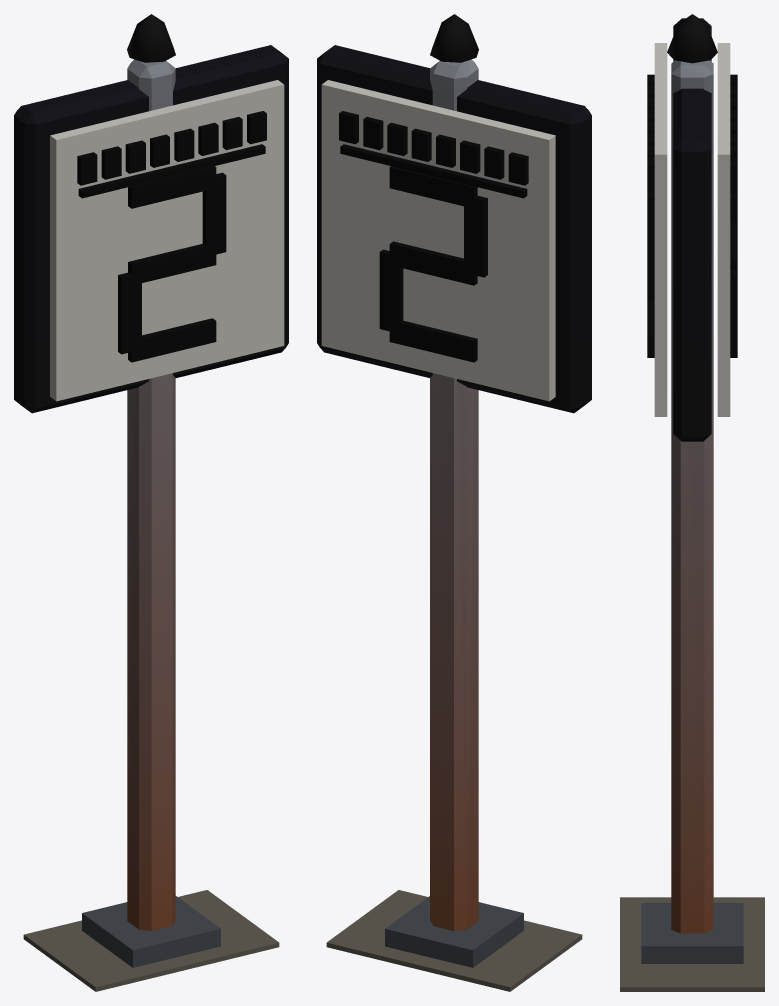
The model's file is platform-number-sign.glb.
The picture shows the model from 3 angles, left to right: view 1: azimuth 30°, elevation 25°; view 2: azimuth 150°, elevation 25°; view 3: azimuth 270°, elevation 25°; orthographic projection.
Visible parts, largest first — view 1: platform_number_sign; view 2: platform_number_sign; view 3: platform_number_sign.
Boxes of the visible parts, x1=… form: platform_number_sign: x1=14, y1=14, x2=288, y2=991; platform_number_sign: x1=317, y1=14, x2=591, y2=991; platform_number_sign: x1=620, y1=14, x2=764, y2=991.
Bounding box in the file's own units: 0.72 × 2.42 × 0.34.
